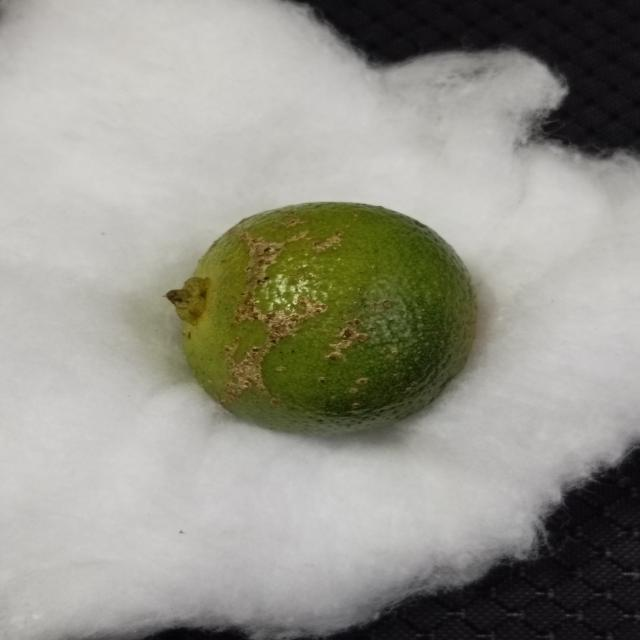thrips: (148, 200, 488, 430)
